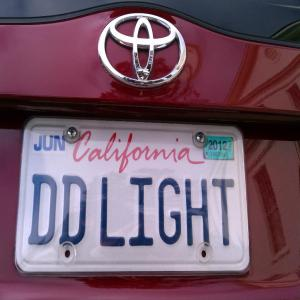Vehicle-registration-plate: (14, 117, 252, 277)
